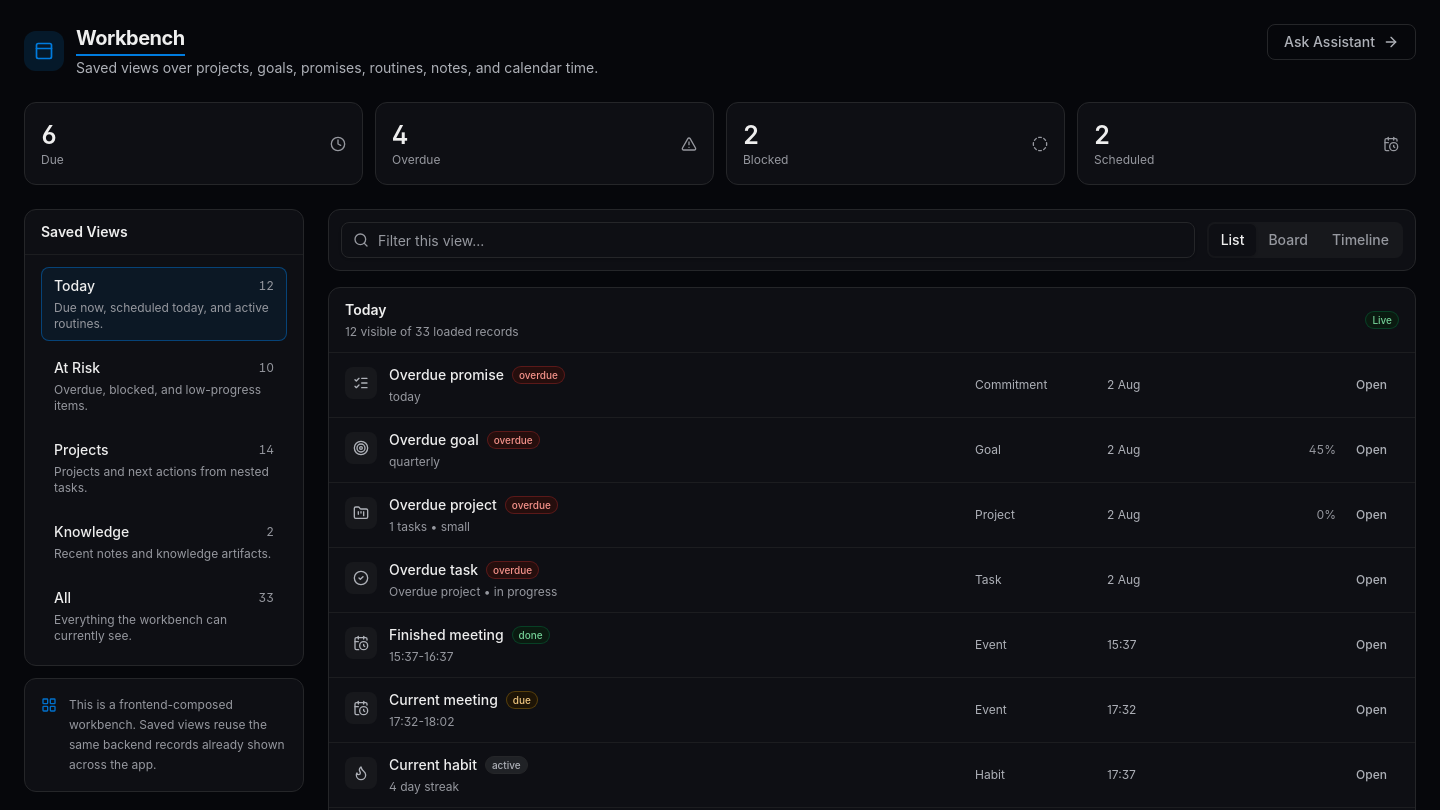
Test case: WorkbenchPage › classifies consequential statuses across every supported record type
Expected: the heading "Overdue promise" is shown, x1=389 y1=365 x2=504 y2=385
Click the text "All" at (62, 598), box x1=54 y1=588 x2=71 y2=608
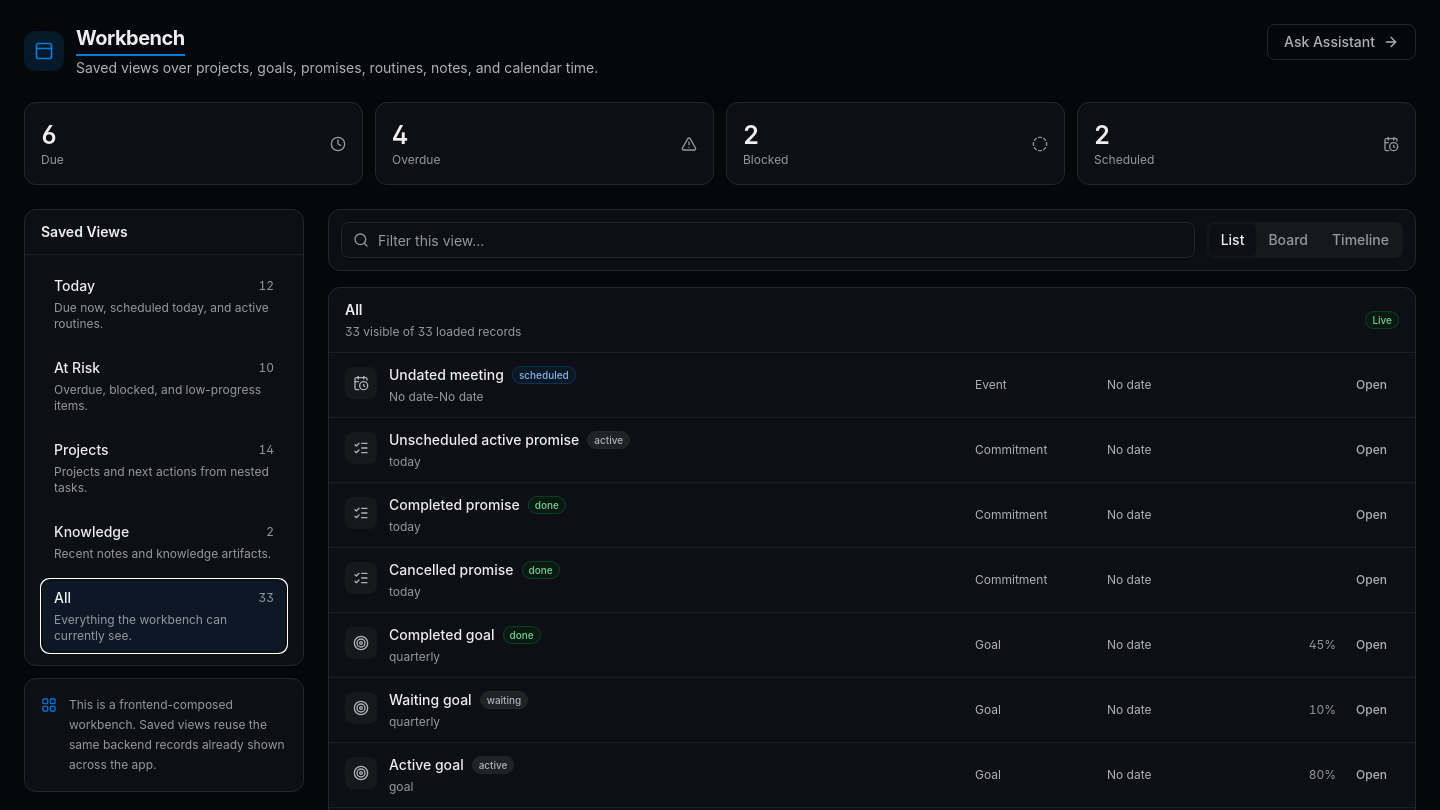
Expected: the text "Completed promise" is shown, x1=389 y1=496 x2=520 y2=513
Expected: the text "done" next to "Completed promise" is shown, x1=535 y1=499 x2=559 y2=511
Expected: the text "Unscheduled active promise" is shown, x1=389 y1=431 x2=579 y2=448
Click the text "Projects" at (81, 450), box x1=54 y1=440 x2=109 y2=460
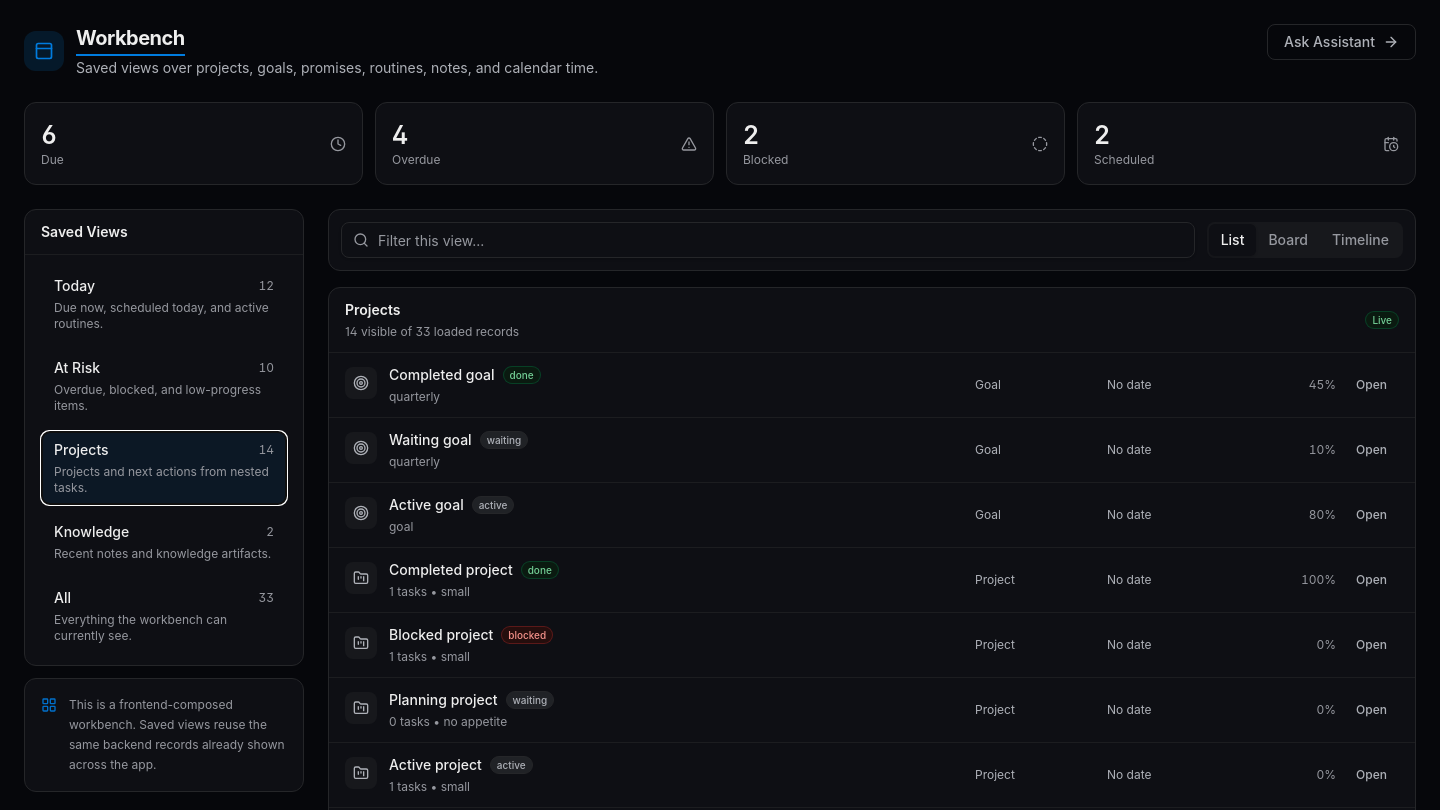
Expected: the heading "Finished meeting" is not shown
Click the text "Knowledge" at (92, 532), box x1=54 y1=522 x2=129 y2=542
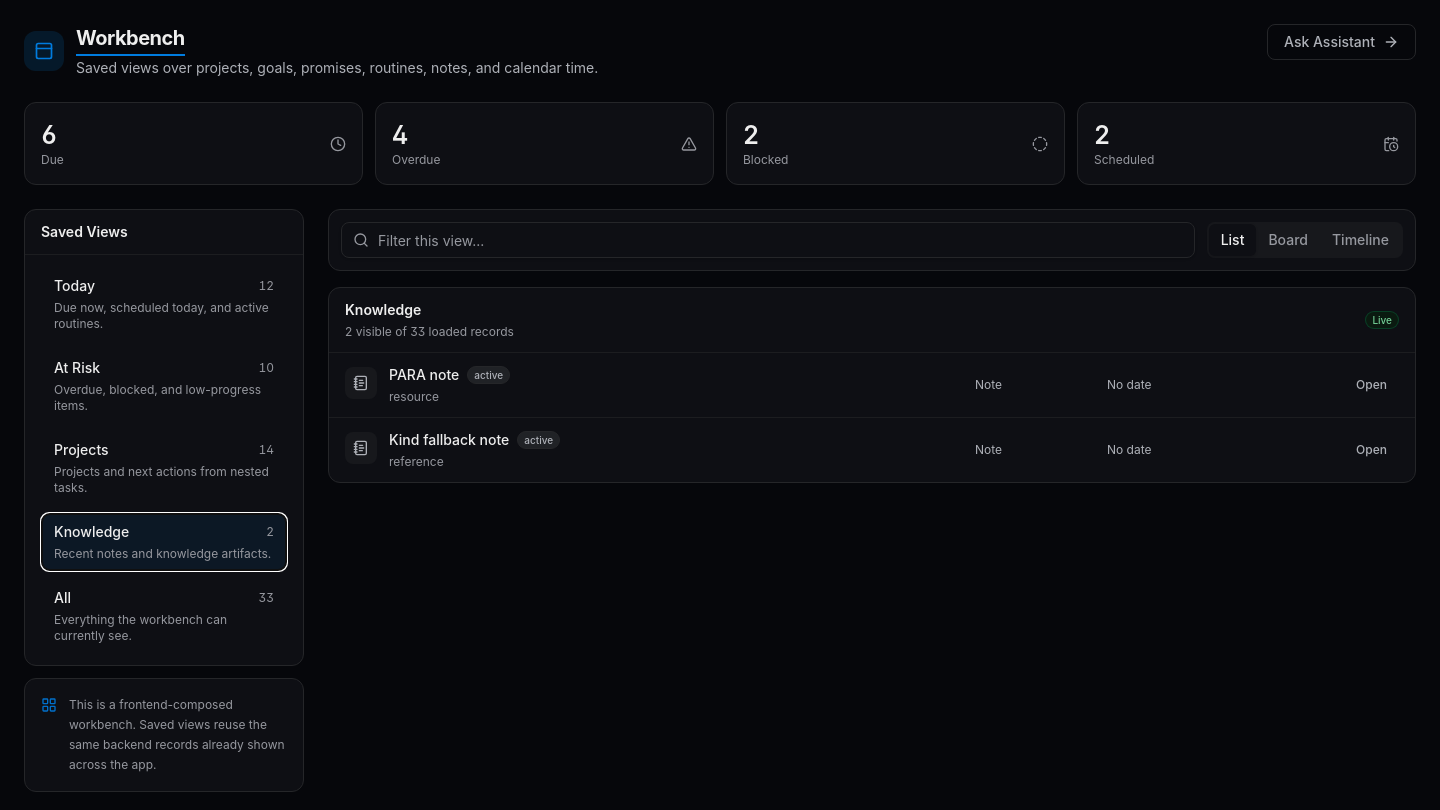
Expected: the heading "PARA note" is shown, x1=389 y1=365 x2=459 y2=385
Expected: the heading "Kind fallback note" is shown, x1=389 y1=430 x2=509 y2=450
